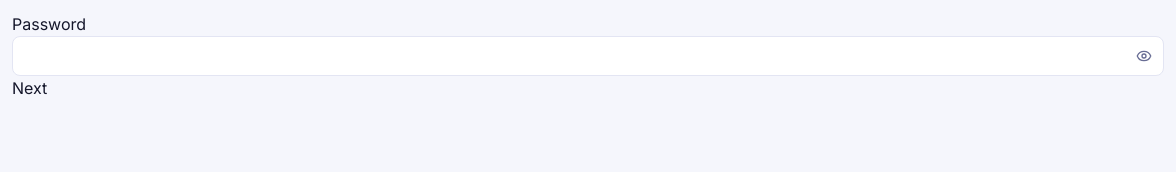
Test: PasswordInput caps lock hint › hides the hint when leaving the field
Click the password field labelled "Password" at point(588, 56), box [12,36,1164,76]
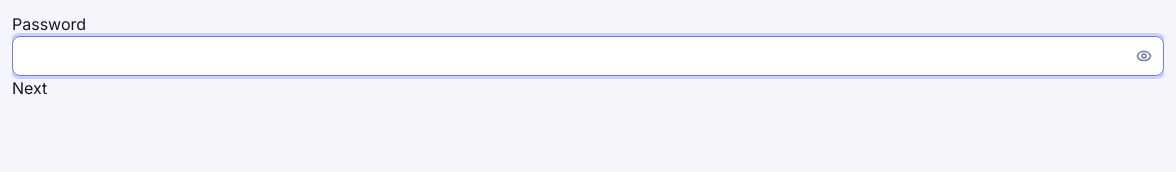
Type keys "{CapsLock}A"
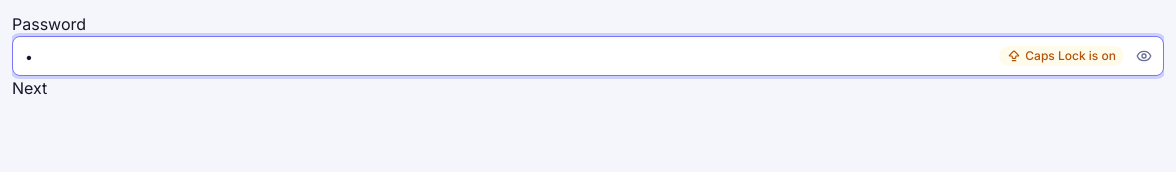
Press Tab
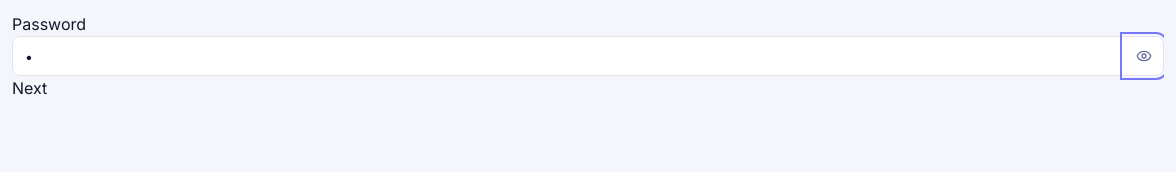
Now the text "Caps Lock is on" is gone
